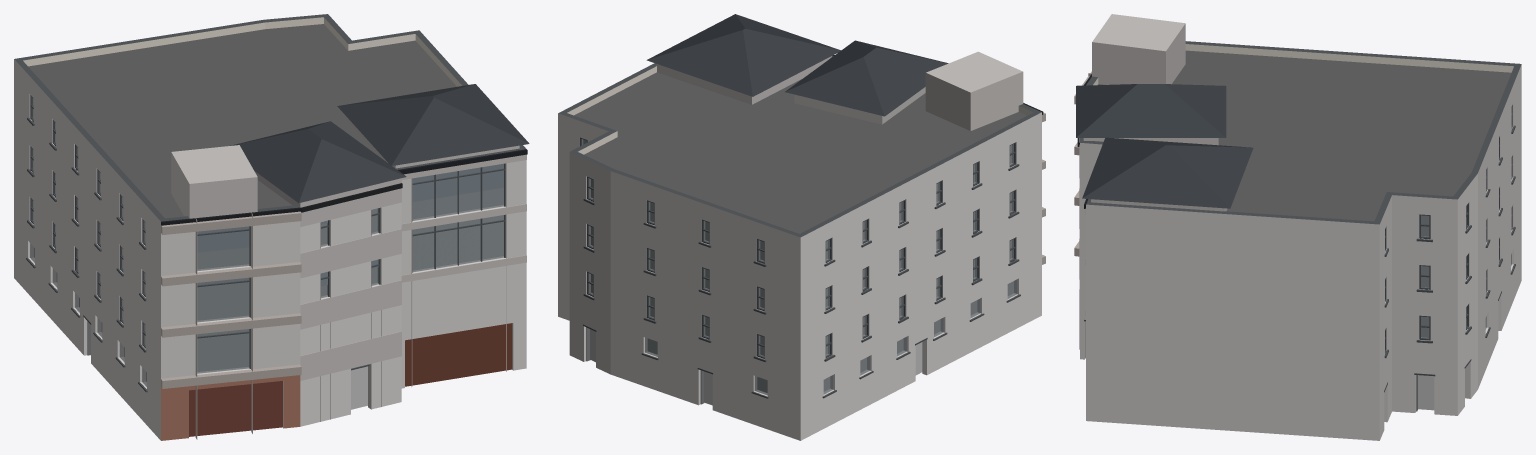
Rendered from exterior.glb.
3 views of the same model, side by side, from view 1: azimuth 30°, elevation 25°; view 2: azimuth 150°, elevation 25°; view 3: azimuth 270°, elevation 25° (orthographic). The views are drawn at different scales.
Visible parts, largest first — view 1: shell, roof, glazing, relief-2, relief-4.001, storefront, relief-2.001, relief-1, shadow-proxy, relief-1.001, relief-4, frames (+1 smaller); view 2: shell, roof, relief-4.001, relief-2.001, relief-1.001, glazing, frames, shadow-proxy, trim; view 3: shell, roof, relief-4.001, relief-2.001, relief-1.001, frames, shadow-proxy, trim, glazing.
Boxes of the visible parts, box(x1,y1,x2,y2) form: shell: box(14, 14, 526, 440); roof: box(28, 24, 456, 218); glazing: box(30, 97, 503, 386); relief-2: box(300, 178, 402, 421); relief-4.001: box(337, 84, 529, 168); storefront: box(83, 315, 512, 436); relief-2.001: box(230, 121, 406, 205); relief-1: box(161, 207, 301, 439); shadow-proxy: box(34, 196, 503, 409); relief-1.001: box(171, 145, 257, 218); relief-4: box(398, 149, 527, 386); frames: box(30, 95, 505, 368); shell: box(558, 55, 1041, 440); roof: box(574, 72, 1026, 233); relief-4.001: box(646, 14, 840, 104); relief-2.001: box(785, 40, 948, 124); relief-1.001: box(925, 51, 1023, 130); glazing: box(581, 139, 1017, 395); frames: box(579, 137, 1015, 358); shadow-proxy: box(583, 140, 1013, 405); trim: box(583, 164, 1020, 398); shell: box(1080, 41, 1521, 440); roof: box(1097, 50, 1511, 221); relief-4.001: box(1082, 137, 1253, 211); relief-2.001: box(1076, 84, 1226, 145); relief-1.001: box(1092, 14, 1185, 84); frames: box(1385, 105, 1512, 352); shadow-proxy: box(1418, 215, 1434, 410); trim: box(1384, 125, 1515, 358); glazing: box(1421, 206, 1511, 338).
Bounding box in the file's own units: 23.16 × 14.37 × 23.23.
